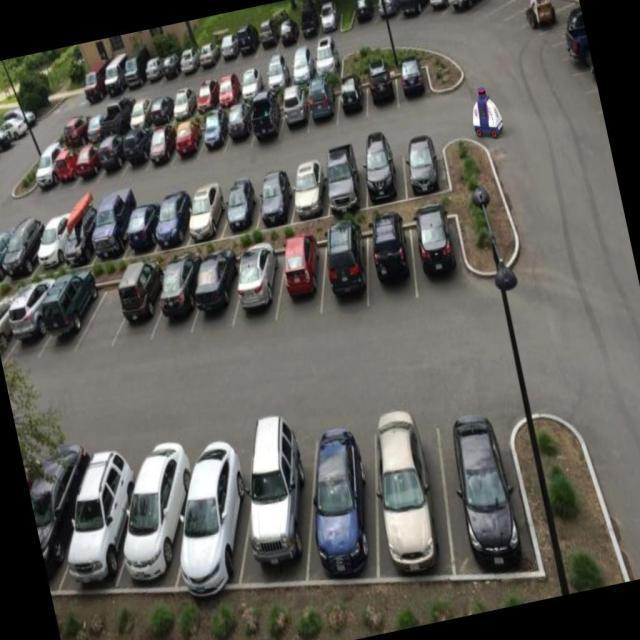space-empty: (69, 259, 137, 365), (460, 0, 513, 28), (485, 0, 538, 22)
space-occupied: (152, 428, 268, 601), (41, 435, 155, 606), (289, 405, 394, 581), (223, 416, 329, 587), (100, 429, 205, 588), (435, 412, 529, 586), (360, 416, 458, 577), (17, 420, 106, 581), (27, 255, 107, 369), (401, 199, 476, 313), (315, 208, 386, 326), (265, 226, 338, 334), (221, 236, 293, 345), (181, 243, 254, 350), (105, 251, 176, 359), (358, 204, 427, 314), (0, 261, 69, 366), (147, 248, 213, 353), (48, 189, 119, 274), (142, 180, 206, 258), (84, 185, 144, 265), (348, 129, 406, 209), (176, 174, 235, 252), (280, 146, 336, 227), (212, 166, 271, 242), (395, 128, 451, 207), (248, 155, 302, 236), (0, 197, 54, 278), (28, 194, 83, 271), (311, 137, 361, 212), (118, 188, 169, 261), (215, 88, 264, 154), (388, 44, 436, 110), (297, 67, 347, 128), (243, 85, 291, 148), (138, 116, 187, 176), (328, 61, 373, 125), (254, 45, 301, 105), (90, 91, 140, 145), (358, 57, 403, 116), (229, 49, 274, 104), (272, 83, 317, 136), (44, 101, 90, 150), (187, 26, 230, 77), (169, 113, 209, 166), (311, 35, 351, 87), (187, 67, 227, 119), (121, 85, 161, 137), (206, 23, 246, 75), (91, 129, 130, 182), (161, 74, 202, 124), (283, 39, 322, 91), (0, 208, 24, 290), (207, 61, 247, 110), (74, 95, 114, 144), (133, 46, 173, 94), (309, 0, 350, 46), (149, 39, 190, 85), (193, 108, 232, 156), (67, 139, 105, 187), (269, 6, 308, 51), (95, 51, 132, 98), (226, 16, 262, 64), (117, 128, 156, 172), (141, 87, 179, 131), (74, 62, 112, 106), (25, 146, 62, 191), (251, 6, 286, 53), (50, 144, 84, 190), (364, 0, 414, 31), (536, 0, 584, 31), (115, 50, 149, 91), (440, 0, 498, 24), (291, 0, 323, 43), (348, 0, 389, 33), (169, 36, 202, 76), (508, 0, 562, 23), (392, 0, 437, 25), (421, 0, 464, 19)
